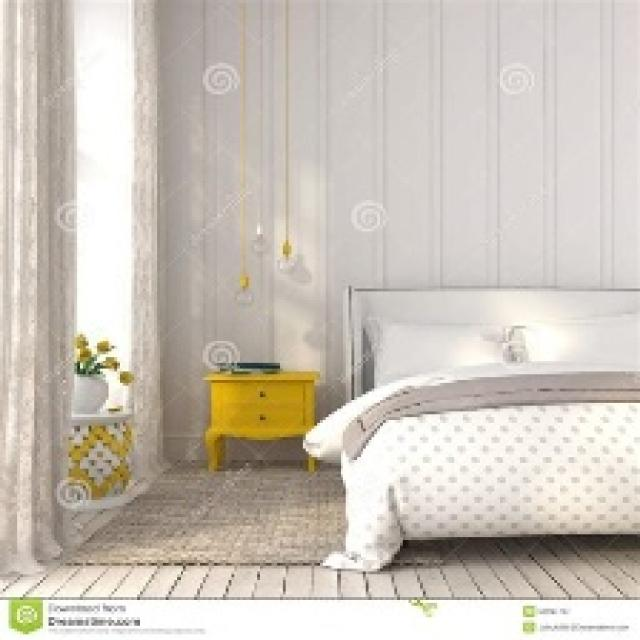Bed: (303, 283, 637, 571)
